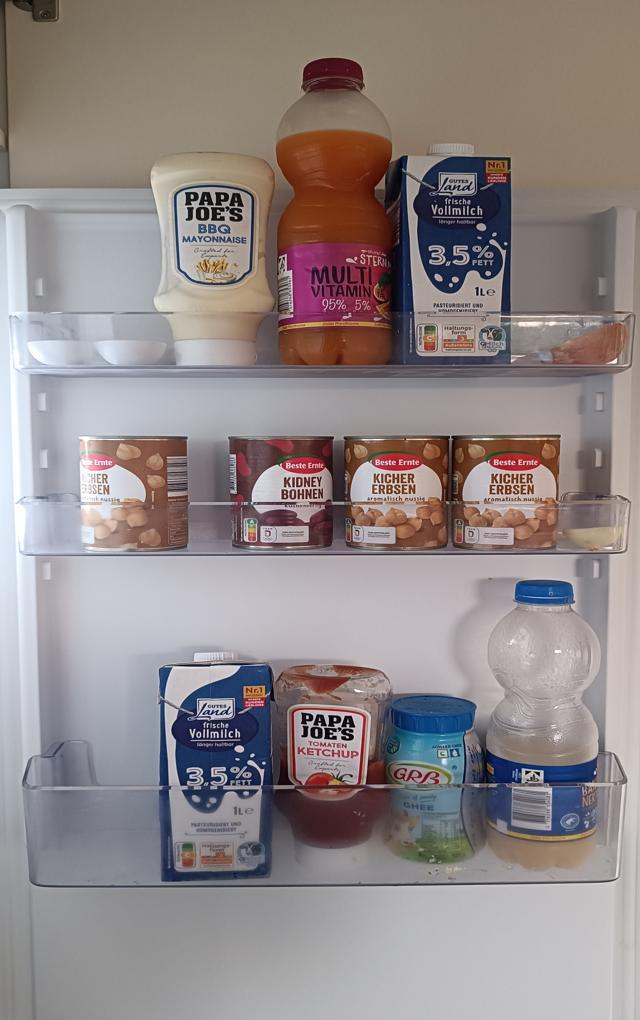bananajuice: (490, 581, 603, 868)
chickpeas: (80, 435, 190, 550), (453, 434, 562, 548), (345, 435, 447, 550)
ghee: (382, 694, 487, 864)
kidneybeans: (230, 435, 333, 548)
mayoniasie: (148, 151, 277, 365)
milk: (387, 141, 513, 363), (161, 652, 270, 879)
orangejuice: (276, 59, 397, 364)
tomatoketchup: (275, 661, 385, 872)
